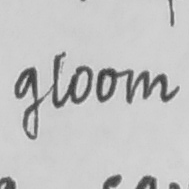g: (12, 64, 45, 143)
l: (48, 48, 68, 112)
m: (123, 67, 170, 106)
o: (68, 63, 94, 108), (95, 66, 119, 104)
